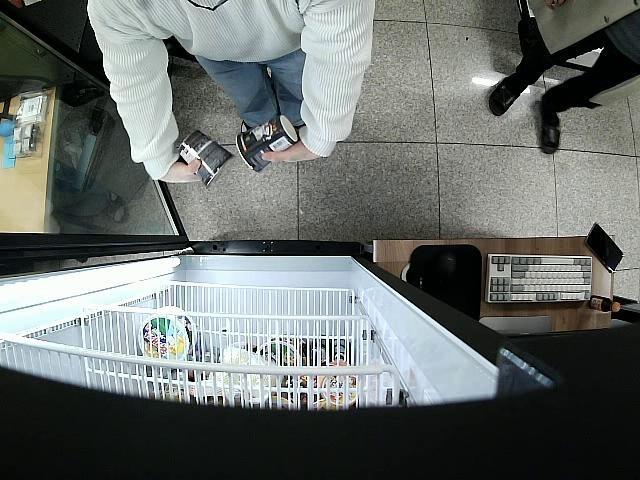08_buldak_S: (236, 116, 298, 175), (180, 130, 233, 188)
